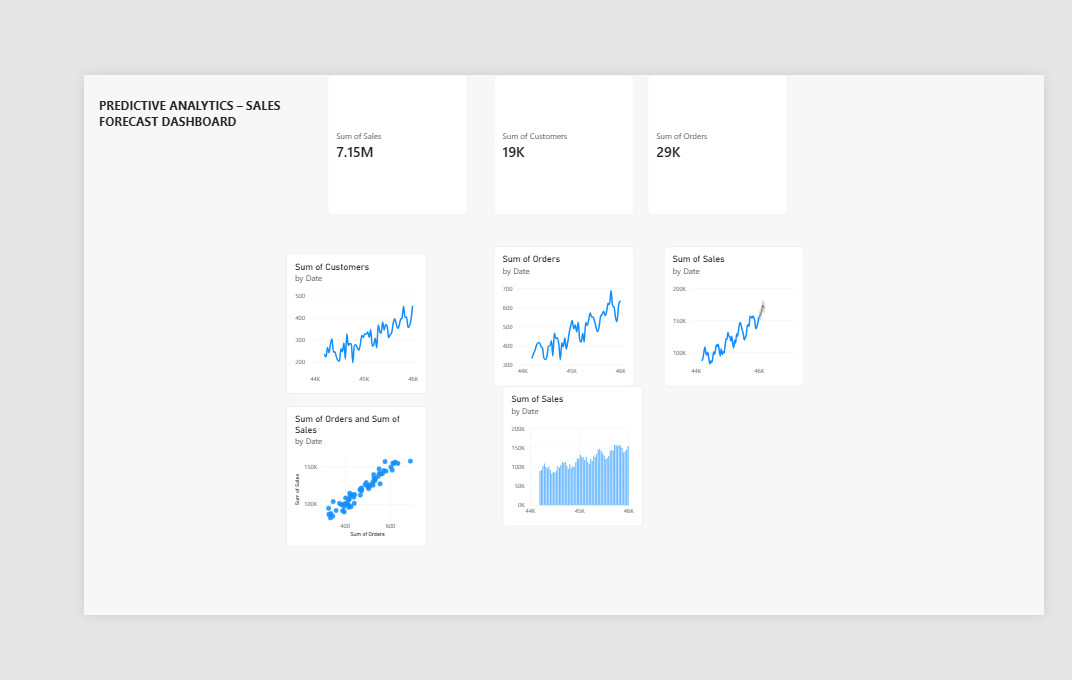

The page's visual inventory and layout, read from the dashboard file:
{"tool":"powerbi","page":{"name":"Page 1","canvas":[1920,1080],"ordinal":0},"visuals":[{"type":"lineChart","fields":{"Category":["Sheet1.Date"],"Y":["Sum(Sheet1.Sales)"]},"box":[1160,343.3,280,280],"z":0},{"type":"cardVisual","fields":{"Data":["Sum(Sheet1.Sales)"]},"box":[486.7,0,280,280],"z":1},{"type":"cardVisual","fields":{"Data":["Sum(Sheet1.Orders)"]},"box":[1128.3,0,280,280],"z":2},{"type":"lineChart","fields":{"Category":["Sheet1.Date"],"Y":["Sum(Sheet1.Orders)"]},"box":[820,343.3,280,280],"z":3},{"type":"lineChart","fields":{"Category":["Sheet1.Date"],"Y":["Sum(Sheet1.Customers)"]},"box":[405,358.3,280,280],"z":4},{"type":"scatterChart","fields":{"Category":["Sheet1.Date"],"X":["Sum(Sheet1.Orders)"],"Y":["Sum(Sheet1.Sales)"]},"box":[405,661.7,280,280],"z":5},{"type":"clusteredColumnChart","fields":{"Category":["Sheet1.Date"],"Y":["Sum(Sheet1.Sales)"]},"box":[836.7,623.3,280,280],"z":6},{"type":"cardVisual","fields":{"Data":["Sum(Sheet1.Customers)"]},"box":[820,0,280,280],"z":7},{"type":"textbox","box":[1160,623,280,280],"z":8},{"type":"textbox","box":[30,44,416,164],"z":9},{"type":"textbox","box":[1450,623,280,280],"z":11},{"type":"textbox","box":[1740,0,180,280],"z":12}]}

Visuals, with their boxes on the page's 1920x1080 design canvas (x1, y1, x2, y2). These are canvas units, not pixel positions in the 1072x680 screenshot, which may show the page scaled, cropped or inside an application window:
lineChart - Sheet1.Date x Sum(Sheet1.Sales): bbox(1160, 343, 1440, 623)
cardVisual - Sum(Sheet1.Sales): bbox(487, 0, 767, 280)
cardVisual - Sum(Sheet1.Orders): bbox(1128, 0, 1408, 280)
lineChart - Sheet1.Date x Sum(Sheet1.Orders): bbox(820, 343, 1100, 623)
lineChart - Sheet1.Date x Sum(Sheet1.Customers): bbox(405, 358, 685, 638)
scatterChart - Sheet1.Date x Sum(Sheet1.Orders): bbox(405, 662, 685, 942)
clusteredColumnChart - Sheet1.Date x Sum(Sheet1.Sales): bbox(837, 623, 1117, 903)
cardVisual - Sum(Sheet1.Customers): bbox(820, 0, 1100, 280)
textbox: bbox(1160, 623, 1440, 903)
textbox: bbox(30, 44, 446, 208)
textbox: bbox(1450, 623, 1730, 903)
textbox: bbox(1740, 0, 1920, 280)
